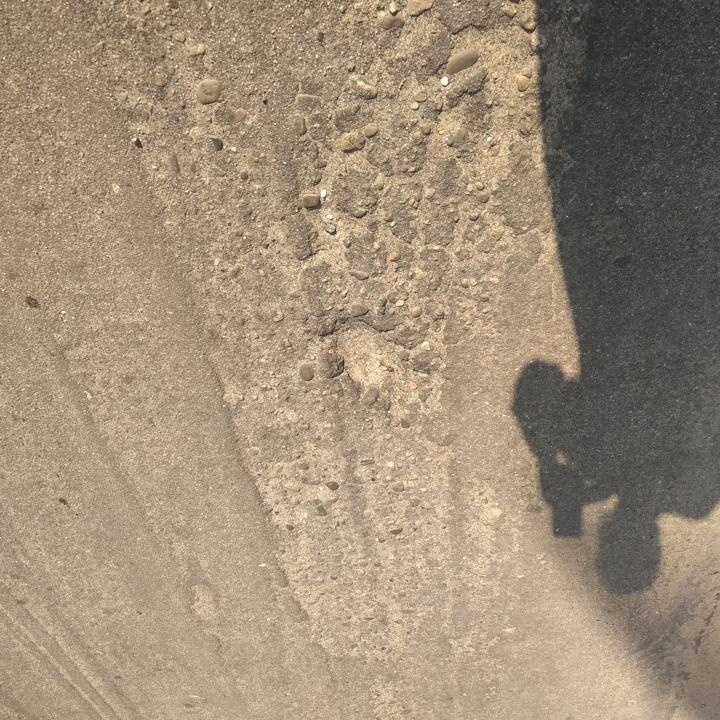pothole: (321, 312, 415, 396)
